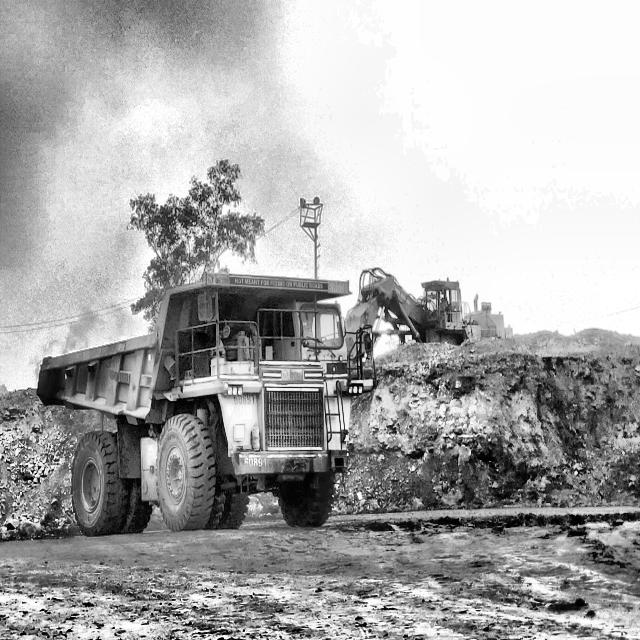dump_truck: (35, 265, 379, 539)
excavator: (346, 262, 512, 346)
